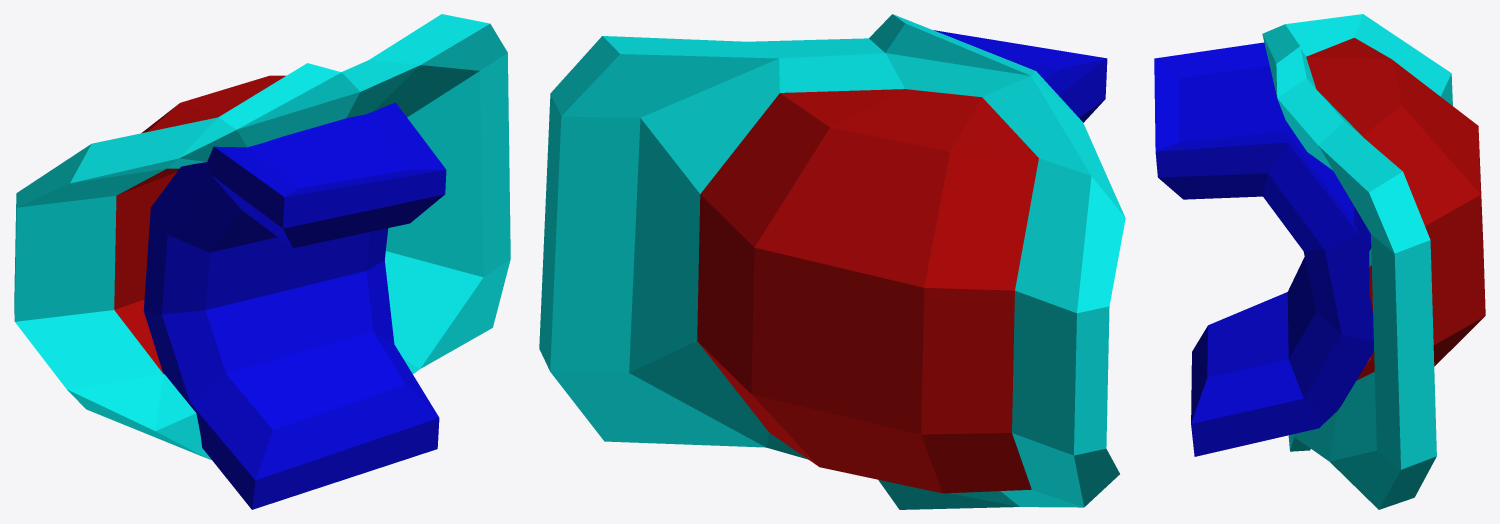
File: Chr_ElbowAttachRight_Static_05.fbx
3 renders of one model, left to right at view 1: azimuth 30°, elevation 25°; view 2: azimuth 150°, elevation 25°; view 3: azimuth 270°, elevation 25°, orthographic. The views are drawn at different scales.
Parts seen in each view (by area): view 1: Chr_ElbowAttachRight_05; view 2: Chr_ElbowAttachRight_05; view 3: Chr_ElbowAttachRight_05.
Boxes of the visible parts, left/top/right/bottom form: Chr_ElbowAttachRight_05: left=14, top=14, right=510, bottom=509; Chr_ElbowAttachRight_05: left=539, top=14, right=1125, bottom=509; Chr_ElbowAttachRight_05: left=1154, top=14, right=1485, bottom=509.
Bounding box in the file's own units: 23.98 × 18.92 × 14.06.
